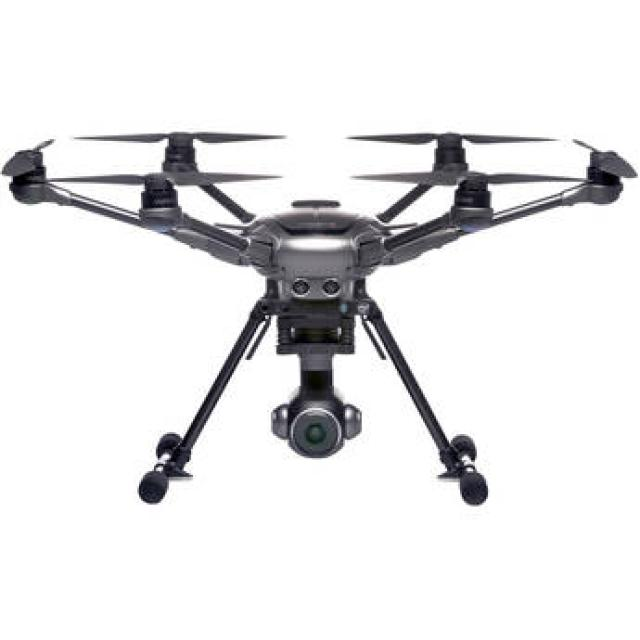drone: (0, 82, 640, 496)
